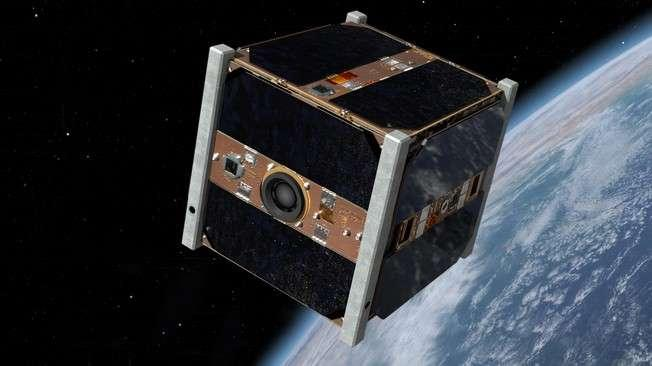solar: (214, 65, 386, 212), (195, 179, 365, 322), (372, 188, 486, 324), (392, 98, 511, 228), (327, 55, 498, 132), (244, 17, 415, 88)
